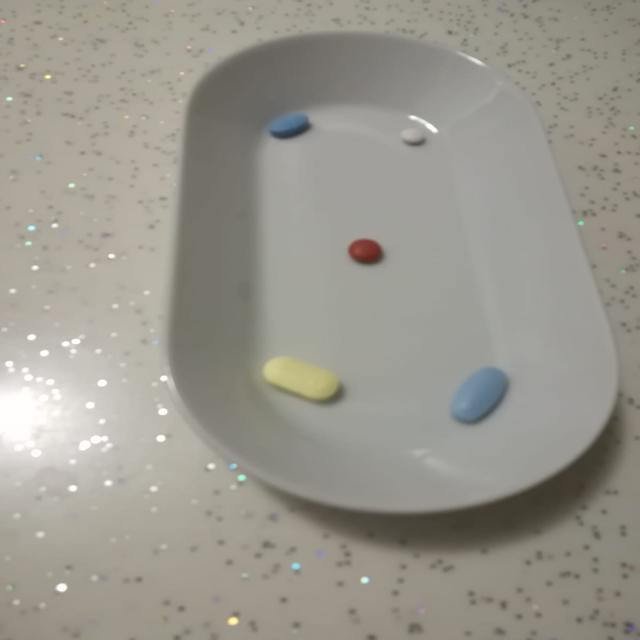pills: (238, 336, 358, 417)
